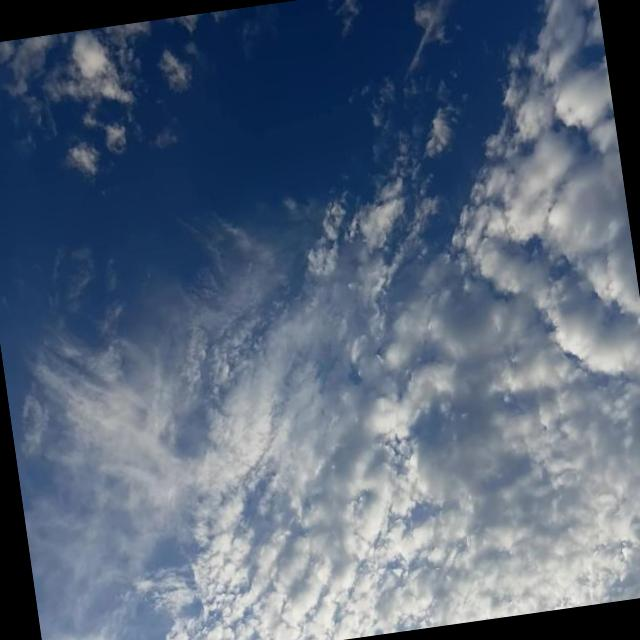altocumulus: (186, 0, 640, 640)
